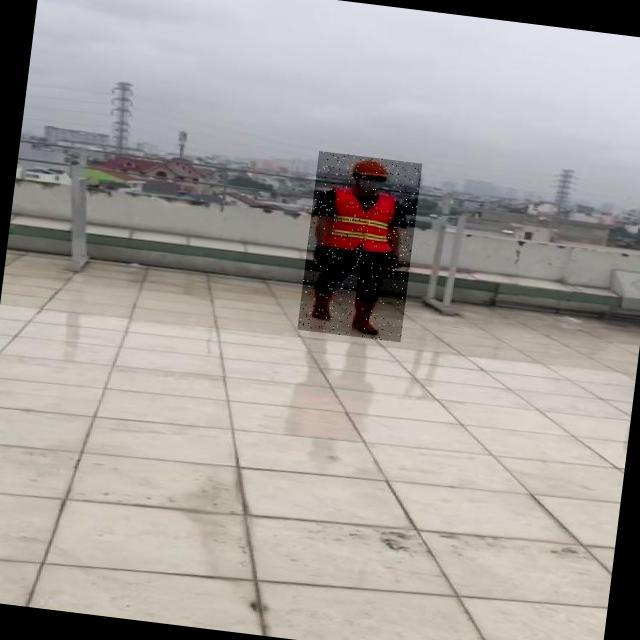Gloves: (309, 245, 333, 264), (381, 256, 399, 276)
Helmet: (348, 156, 392, 180)
Human: (297, 150, 422, 342)
Safety Boot: (349, 295, 387, 337), (306, 287, 338, 321)
Safety Vest: (327, 188, 400, 256)
